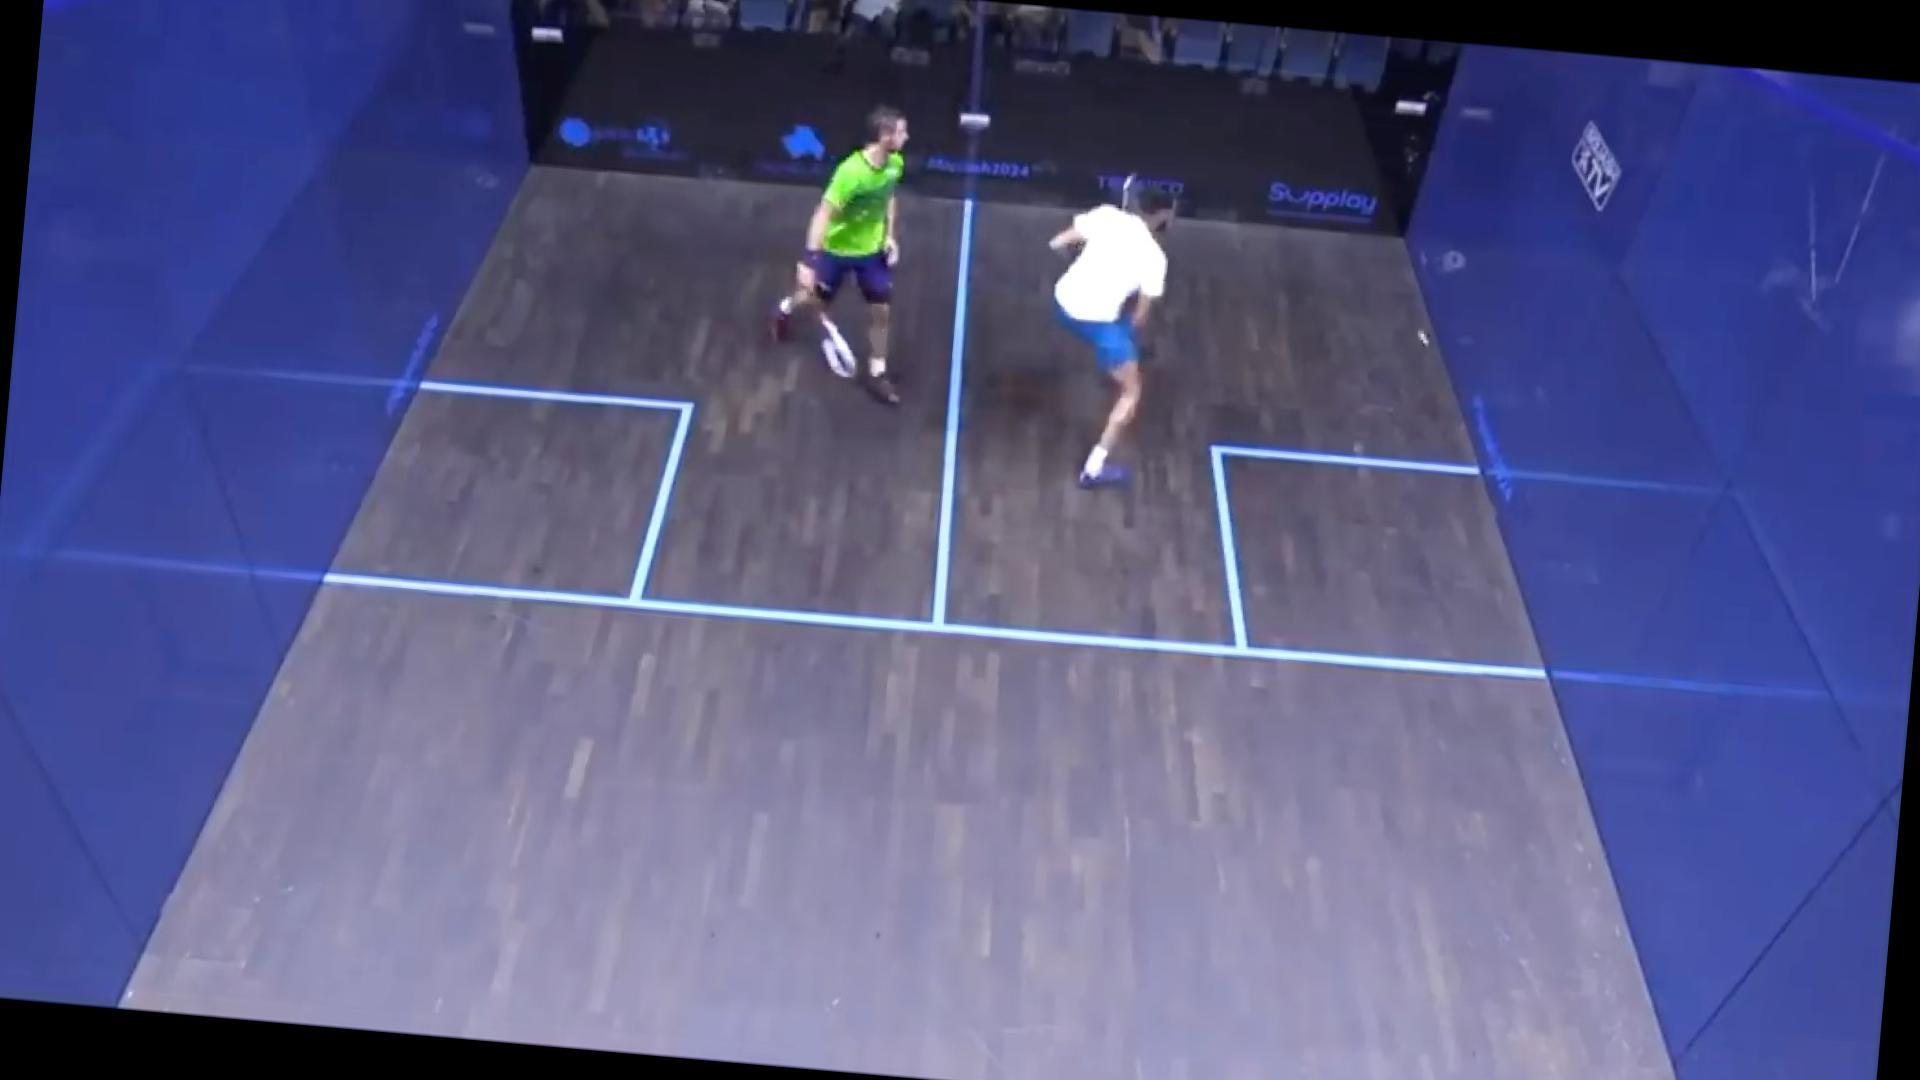Squash-Ball: (1407, 320, 1443, 361)
